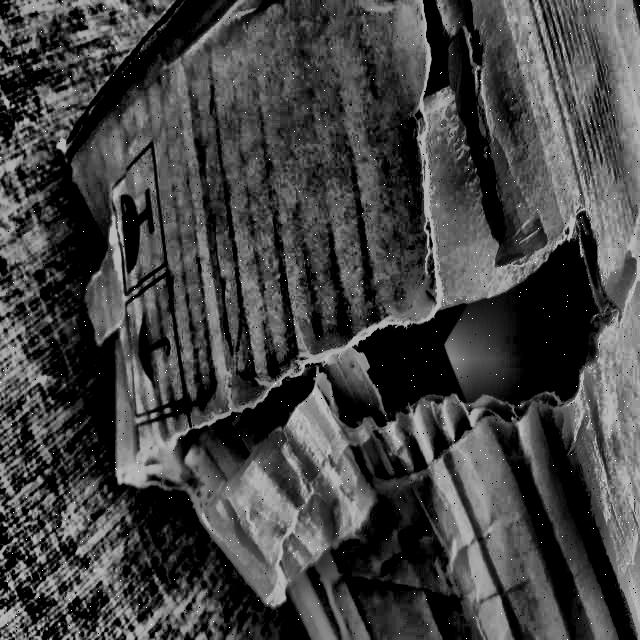box: (94, 0, 640, 640)
hole: (298, 0, 614, 502)
